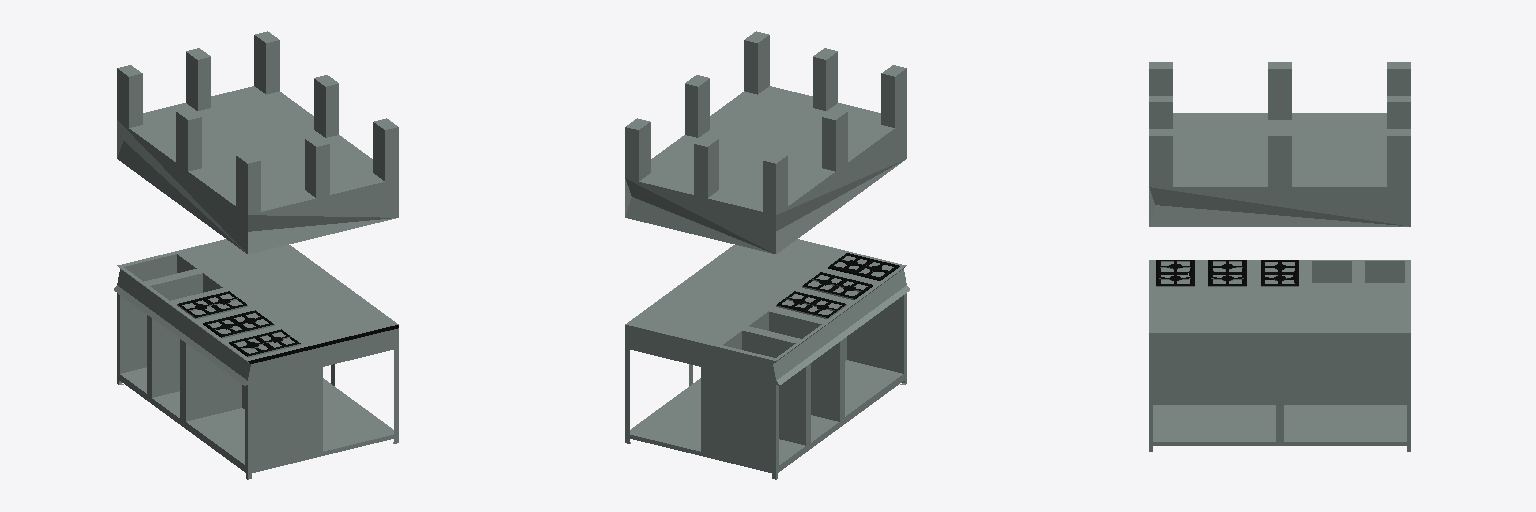
3 views of the same model, side by side, from view 1: azimuth 30°, elevation 25°; view 2: azimuth 150°, elevation 25°; view 3: azimuth 270°, elevation 25° (orthographic).
Visible parts, largest first — view 1: Cube; view 2: Cube; view 3: Cube.
Part boxes in pixels (bbox=[...]): Cube: bbox=[114, 31, 398, 479]; Cube: bbox=[625, 31, 909, 479]; Cube: bbox=[1149, 62, 1410, 451].
Size of the model in its own units: 2.05 by 4 by 3.
1 materials, 1 textured.